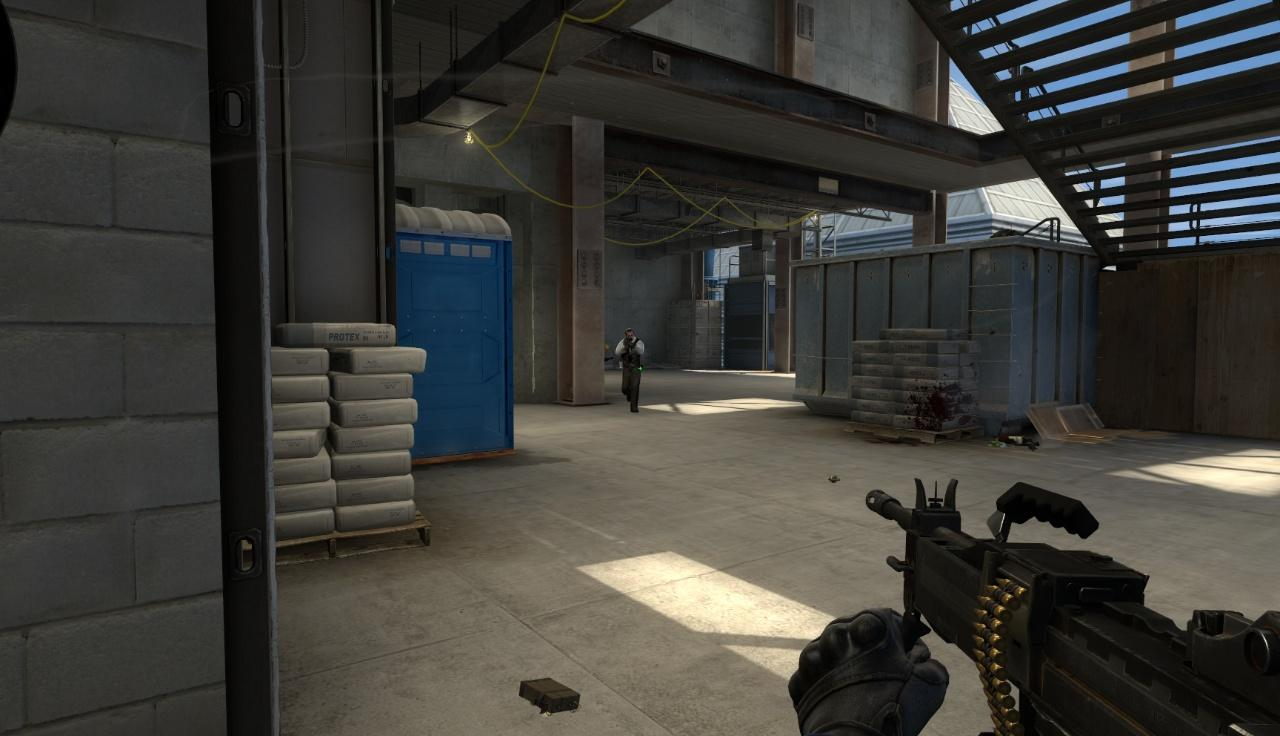rifle: (857, 466, 1280, 736)
tt: (619, 328, 643, 413)
tthead: (625, 328, 635, 342)
